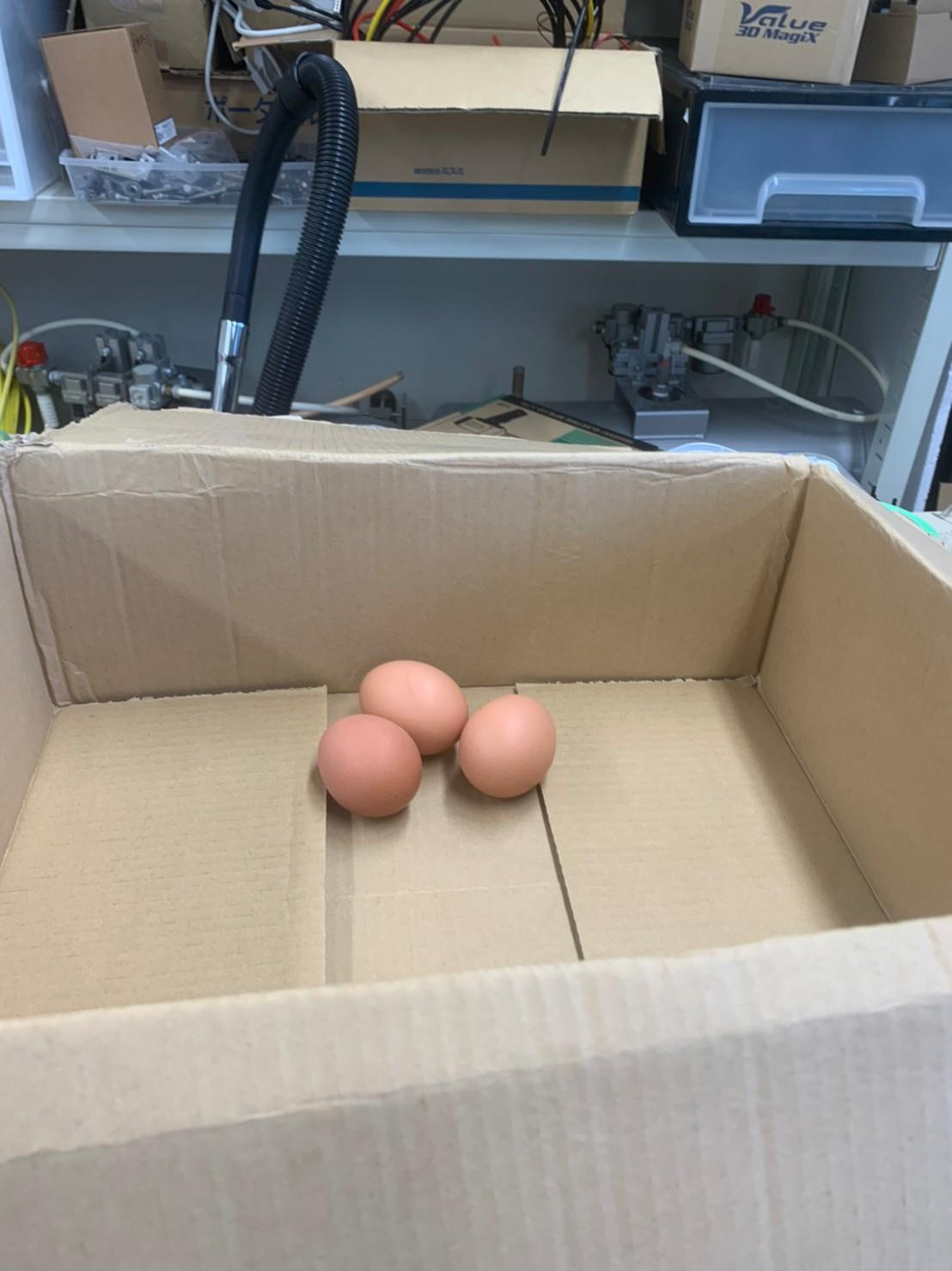egg: (305, 707, 422, 820), (449, 690, 557, 804), (357, 651, 465, 757)
